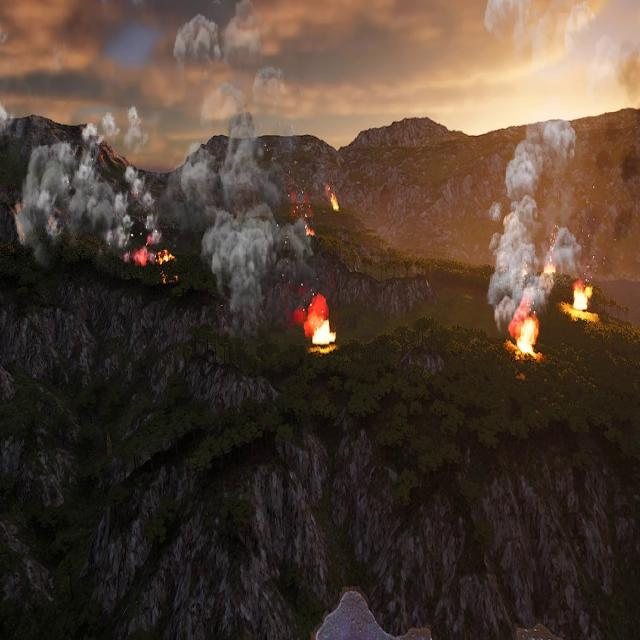fire: (479, 0, 629, 92), (563, 276, 599, 323), (303, 297, 335, 348), (510, 313, 540, 354), (135, 243, 175, 273), (329, 190, 341, 215), (303, 224, 315, 235)
smoke: (175, 0, 321, 330), (0, 107, 168, 269), (489, 125, 583, 328)
